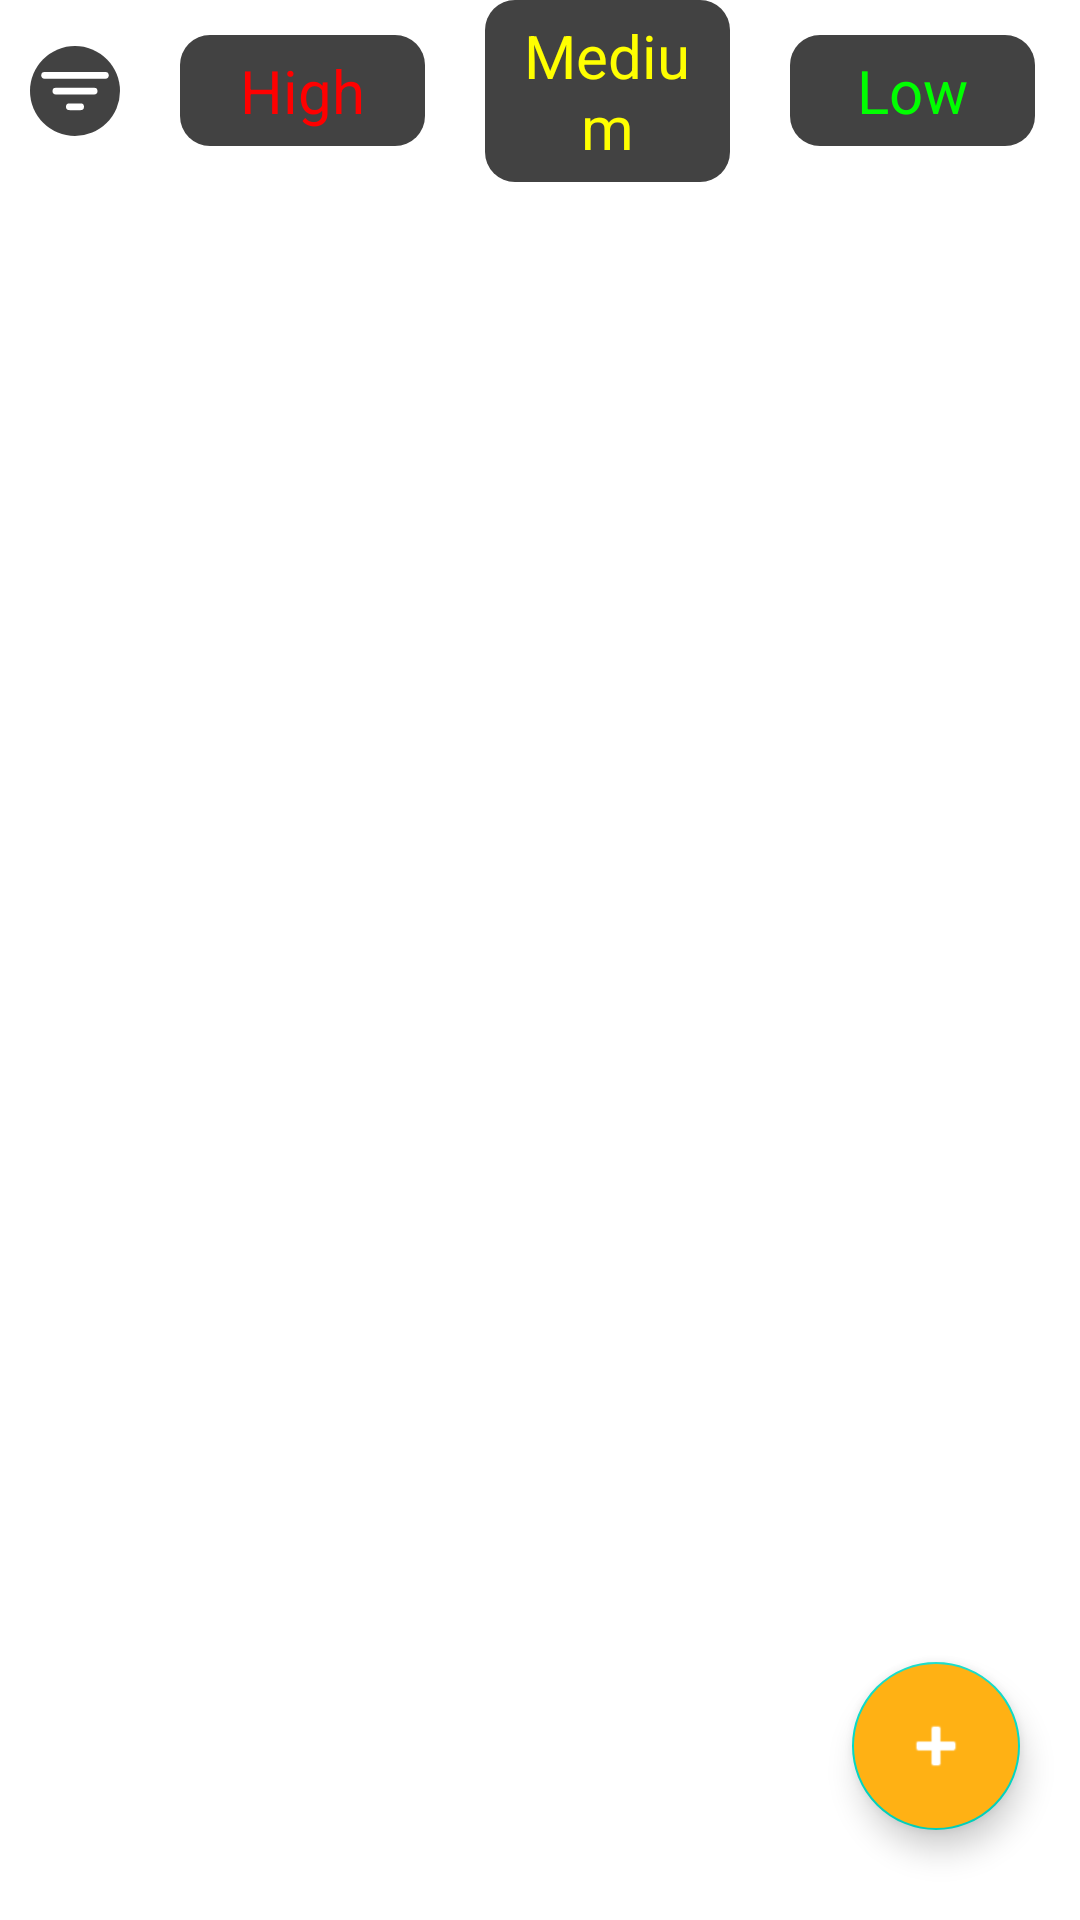

Icon bounding boxes for this 1080 × 1920 phone screenshot, format (x1, y1, x2, y2):
add: (852, 1662, 1020, 1830)
filter: (30, 46, 120, 136)
